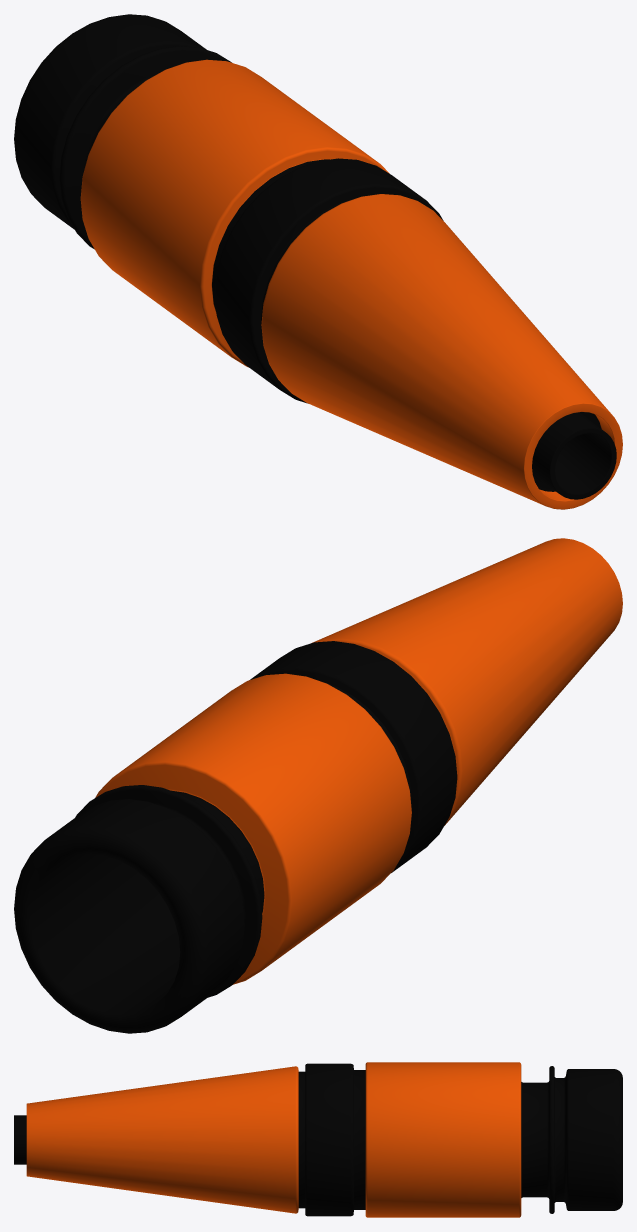
Rendered from Waterhose.fbx.
3 views of the same model, one above another, from view 1: azimuth 30°, elevation 25°; view 2: azimuth 150°, elevation 25°; view 3: azimuth 270°, elevation 25° (orthographic). The views are drawn at different scales.
Parts seen in each view (by area): view 1: Cylinder; view 2: Cylinder; view 3: Cylinder.
Boxes of the visible parts, <box> form: Cylinder: <box>14,14,622,509</box>; Cylinder: <box>14,538,622,1033</box>; Cylinder: <box>14,1062,622,1217</box>.
Bounding box in the file's own units: 200 × 200 × 783.
